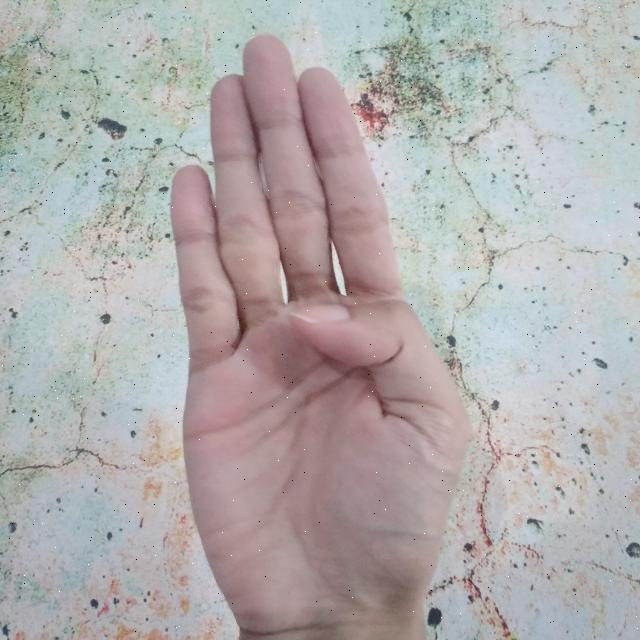B: (166, 29, 477, 640)
